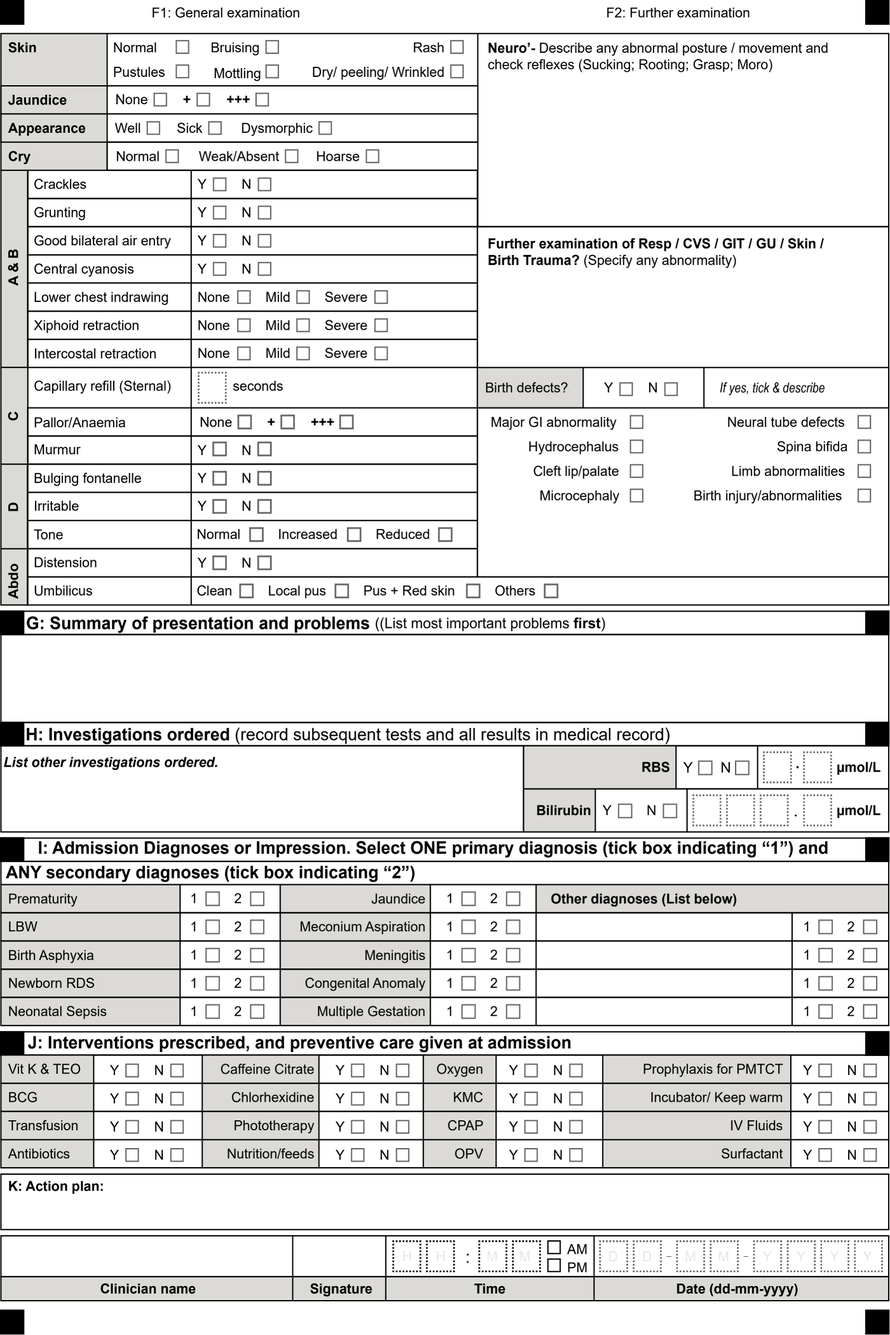mask: (3, 1238, 383, 1275)
